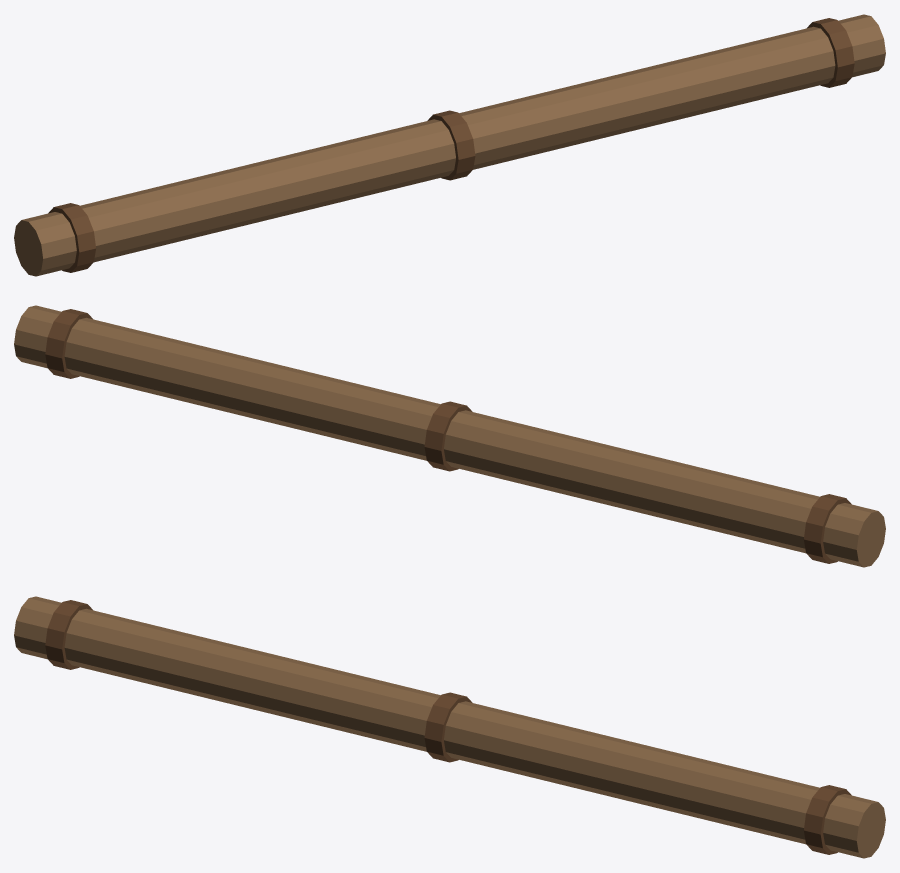
File: pipe.fbx
3 renders of one model, top to bottom at view 1: azimuth 30°, elevation 25°; view 2: azimuth 150°, elevation 25°; view 3: azimuth 330°, elevation 25°, orthographic.
Parts seen in each view (by area): view 1: pipe; view 2: pipe; view 3: pipe.
Boxes of the visible parts, x1=… form: pipe: x1=14, y1=14, x2=885, y2=276; pipe: x1=14, y1=305, x2=885, y2=567; pipe: x1=14, y1=596, x2=885, y2=858.
Bounding box in the file's own units: 2 × 0.14 × 0.14.
